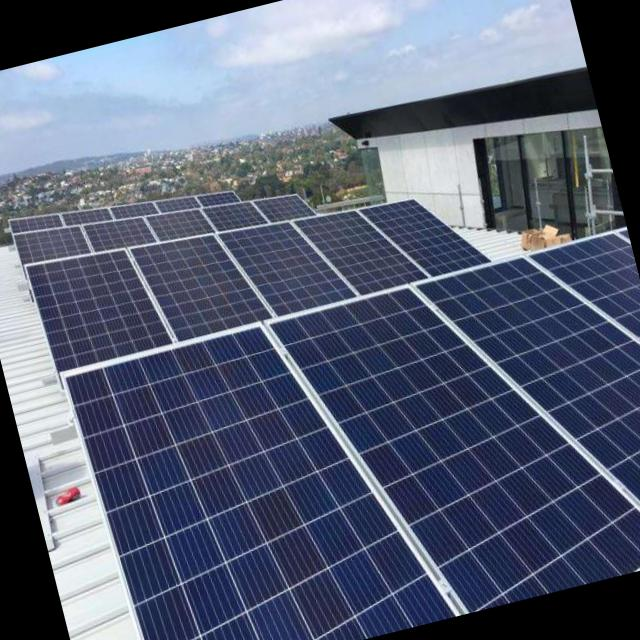faulty: (25, 210, 426, 374)
no faulty: (67, 228, 640, 640), (367, 198, 489, 275)
